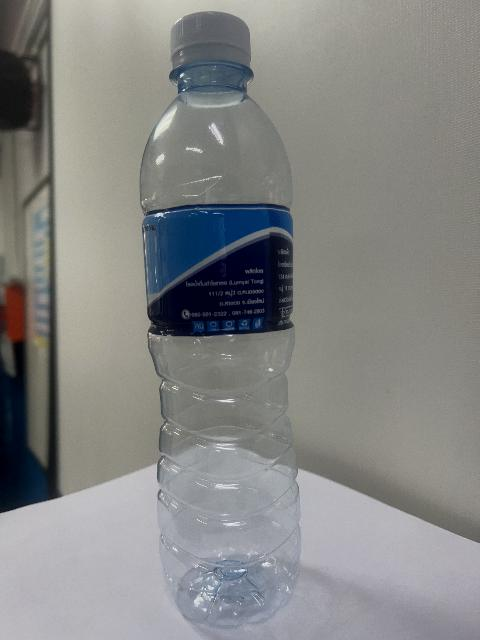bottle: (141, 12, 300, 627)
